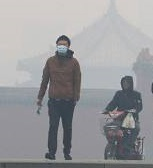person: (34, 34, 83, 161), (99, 74, 146, 160)
